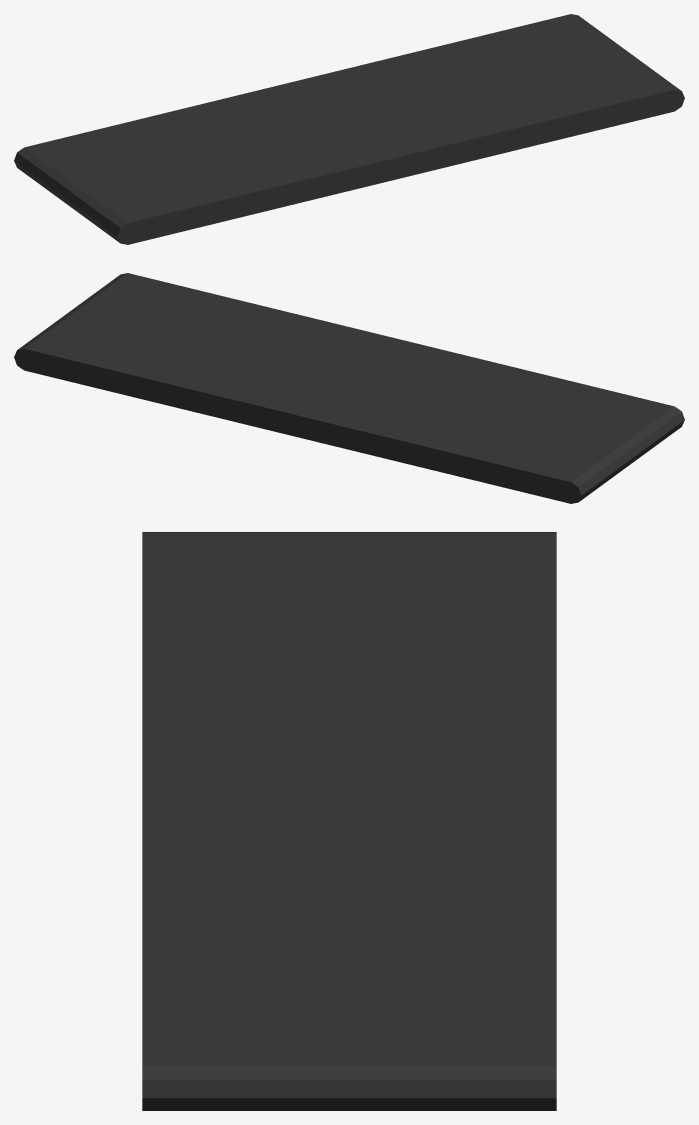
The model's file is Wall_Shelf_2.fbx.
The picture shows the model from 3 angles, top to bottom: view 1: azimuth 30°, elevation 25°; view 2: azimuth 150°, elevation 25°; view 3: azimuth 270°, elevation 25°; orthographic projection. The views are drawn at different scales.
Parts seen in each view (by area): view 1: Wall Shelf 2; view 2: Wall Shelf 2; view 3: Wall Shelf 2.
Part boxes in pixels (x1,y1,x2,y2): Wall Shelf 2: [14, 14, 684, 244]; Wall Shelf 2: [14, 273, 684, 503]; Wall Shelf 2: [142, 532, 556, 1110].
Bounding box in the file's own units: 134 × 4.93 × 42.43.
